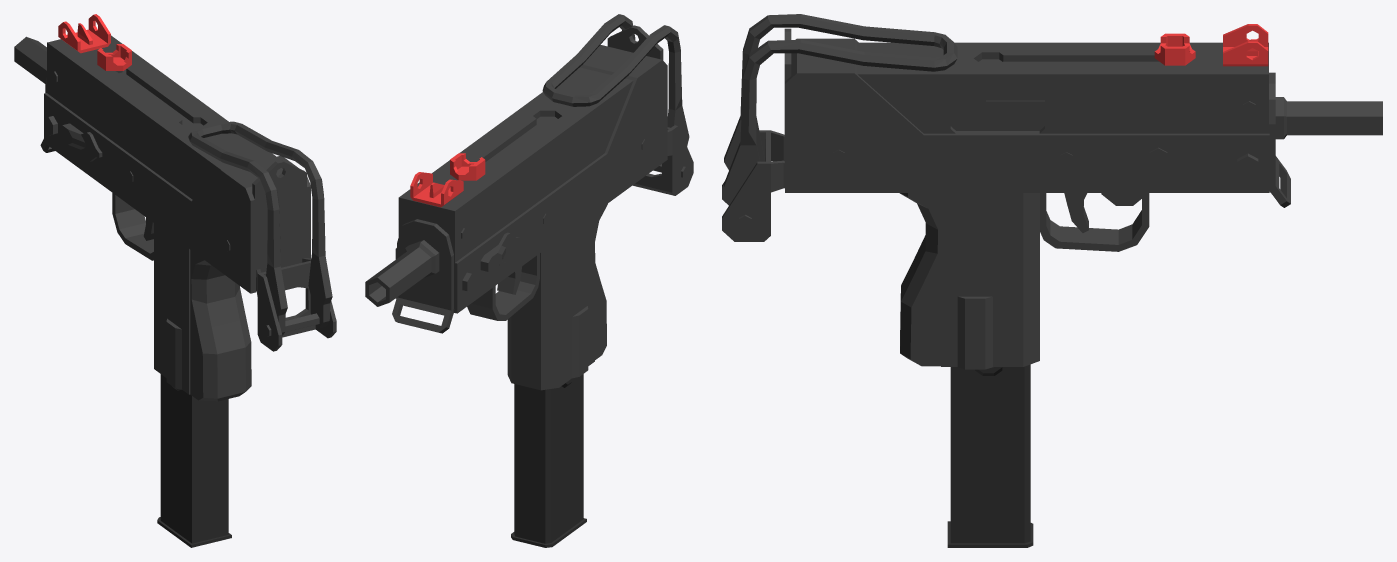
The model's file is subfusil_16.glb.
3 views of the same model, side by side, from view 1: azimuth 30°, elevation 25°; view 2: azimuth 150°, elevation 25°; view 3: azimuth 270°, elevation 25° (orthographic). The views are drawn at different scales.
Parts seen in each view (by area): view 1: p3_paint, p2_paint, p30_mag, p25_paint, p24_paint, p21_paint, p28_paint, p14_paint, p16_paint, p4_del, p0_paint, p23_paint (+4 smaller); view 2: p3_paint, p2_paint, p30_mag, p21_paint, p24_paint, p1_paint, p0_paint, p16_paint, p14_paint, p4_del, p23_paint, p25_paint (+4 smaller); view 3: p2_paint, p3_paint, p30_mag, p21_paint, p24_paint, p25_paint, p14_paint, p0_paint, p9_paint, p16_paint, p22_paint, p4_del (+2 smaller).
Part boxes in pixels (x1,y1,x2,y2): p3_paint: (47,35,275,199); p2_paint: (44,93,310,293); p30_mag: (157,374,231,547); p25_paint: (190,250,251,401); p24_paint: (188,121,332,335); p21_paint: (154,223,190,394); p28_paint: (252,160,306,277); p14_paint: (256,257,336,351); p16_paint: (112,193,153,260); p4_del: (58,14,110,53); p0_paint: (14,36,46,83); p23_paint: (166,318,181,389); p3_paint: (398,67,633,309); p2_paint: (395,45,667,313); p30_mag: (511,374,586,547); p21_paint: (507,213,594,390); p24_paint: (542,14,689,146); p1_paint: (392,219,453,333); p0_paint: (365,240,439,306); p16_paint: (467,253,539,320); p14_paint: (632,125,693,195); p4_del: (410,172,463,207); p23_paint: (572,306,588,378); p25_paint: (595,203,607,359); p2_paint: (785,38,1269,192); p3_paint: (857,42,1268,133); p30_mag: (947,364,1033,547); p21_paint: (941,193,1039,366); p24_paint: (724,14,957,204); p25_paint: (899,193,940,366); p14_paint: (722,130,784,241); p0_paint: (1275,97,1382,139); p9_paint: (950,59,1044,130); p16_paint: (1040,193,1149,251); p22_paint: (957,296,993,369); p4_del: (1223,24,1268,66).
Size of the model in its own units: 0.0467 by 0.263 by 0.31.
